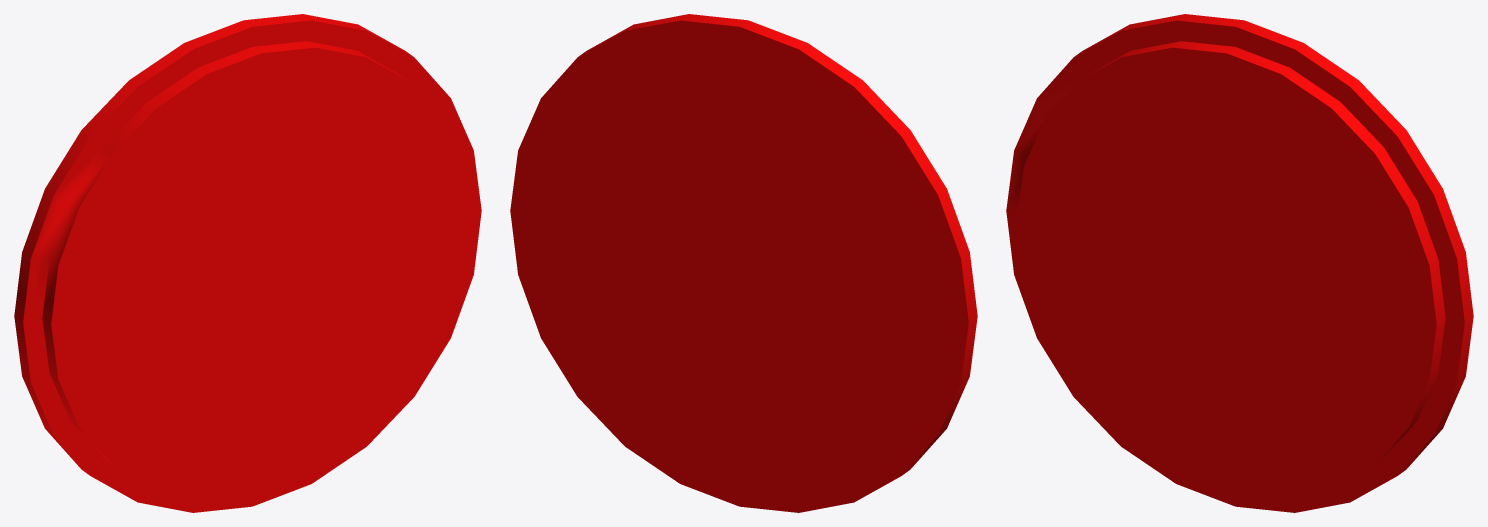
The model's file is original-9.obj.
The picture shows the model from 3 angles, left to right: view 1: azimuth 30°, elevation 25°; view 2: azimuth 150°, elevation 25°; view 3: azimuth 330°, elevation 25°; orthographic projection.
Parts seen in each view (by area): view 1: Group9/mesh36/mesh36-geometry#mesh36-geometry; view 2: Group9/mesh36/mesh36-geometry#mesh36-geometry; view 3: Group9/mesh36/mesh36-geometry#mesh36-geometry.
Boxes of the visible parts, bbox=[...] form: Group9/mesh36/mesh36-geometry#mesh36-geometry: bbox=[14, 14, 481, 512]; Group9/mesh36/mesh36-geometry#mesh36-geometry: bbox=[510, 14, 977, 512]; Group9/mesh36/mesh36-geometry#mesh36-geometry: bbox=[1006, 14, 1473, 512].
Size of the model in its own units: 0.5397 by 0.5397 by 0.036.
